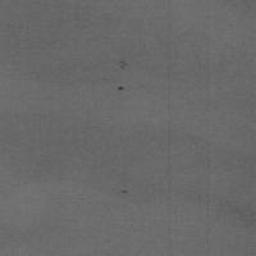Inclusion: (116, 59, 131, 72), (116, 84, 125, 91), (120, 188, 129, 195)
